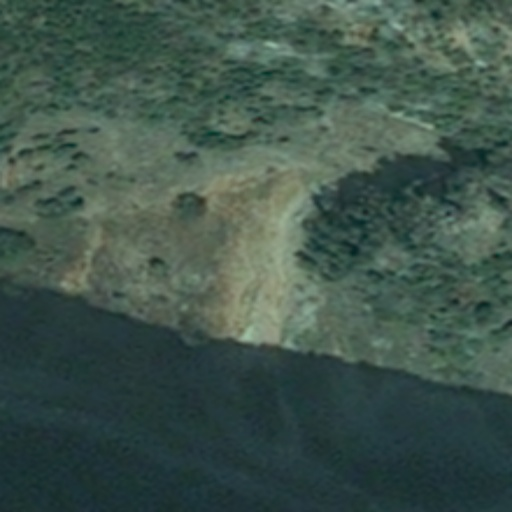landslide: (202, 174, 309, 341)
